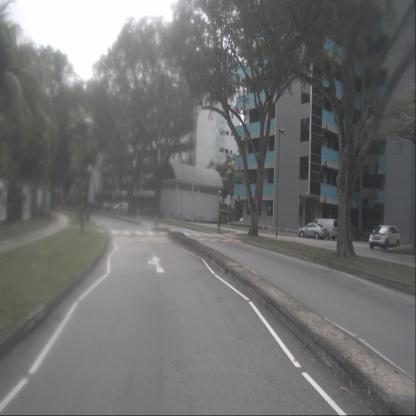cone: (264, 224, 267, 232), (262, 223, 264, 231)
